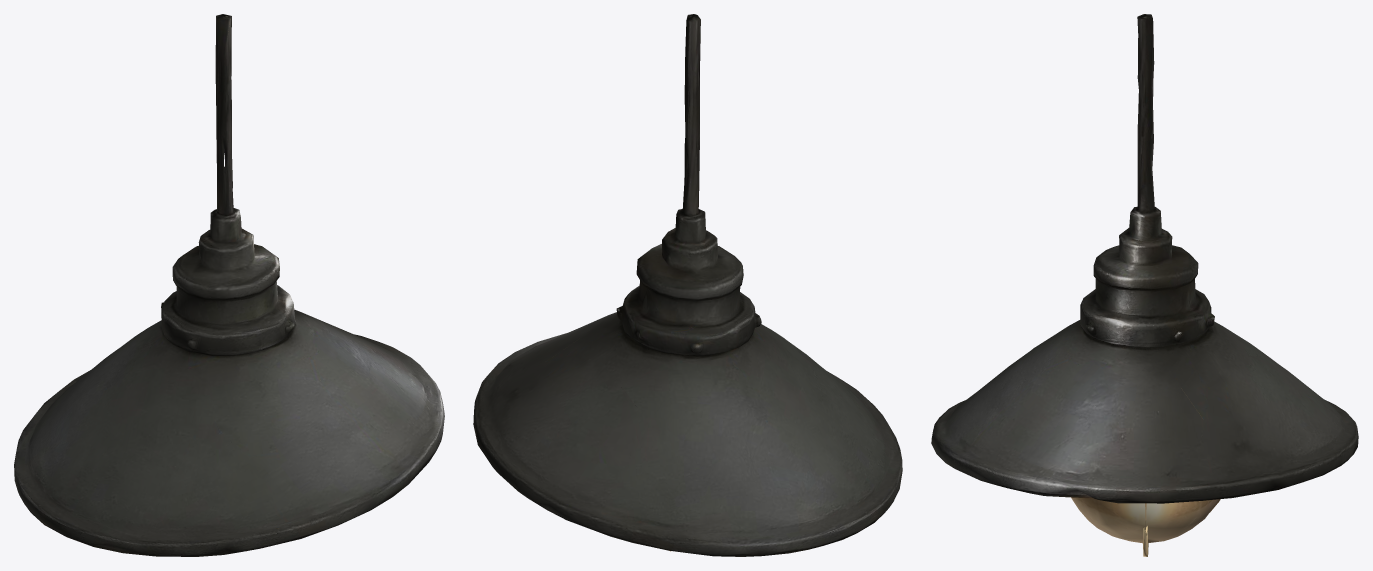
File: post_office_pendant_b.glb
3 views of the same model, side by side, from view 1: azimuth 30°, elevation 25°; view 2: azimuth 150°, elevation 25°; view 3: azimuth 270°, elevation 25° (orthographic).
Visible parts, largest first — view 1: tripo_node_650c5f26-72f9-46cb-b829-eb87ae304d54; view 2: tripo_node_650c5f26-72f9-46cb-b829-eb87ae304d54; view 3: tripo_node_650c5f26-72f9-46cb-b829-eb87ae304d54.
Part boxes in pixels (<box>): tripo_node_650c5f26-72f9-46cb-b829-eb87ae304d54: <box>14,14,444,556</box>; tripo_node_650c5f26-72f9-46cb-b829-eb87ae304d54: <box>473,14,902,556</box>; tripo_node_650c5f26-72f9-46cb-b829-eb87ae304d54: <box>931,14,1358,556</box>.
Size of the model in its own units: 0.7396 by 1 by 0.7435.
Materials: 1 (1 with a texture image).
